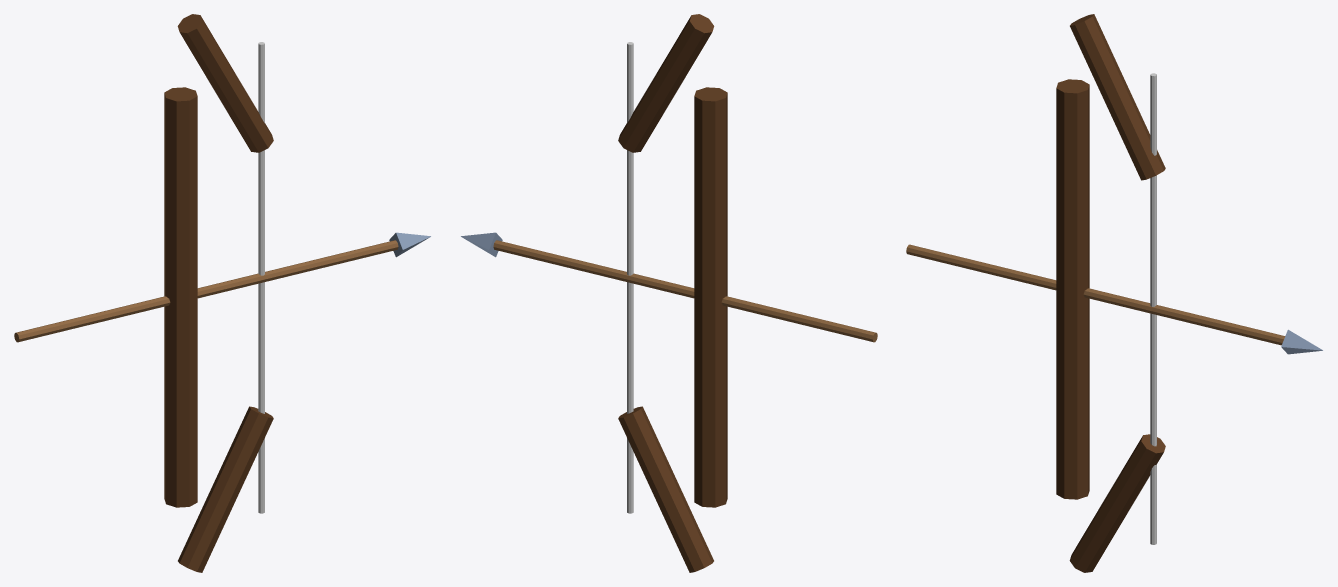
Rendered from SM_GZ_tool_bow.fbx.
The picture shows the model from 3 angles, left to right: view 1: azimuth 30°, elevation 25°; view 2: azimuth 150°, elevation 25°; view 3: azimuth 330°, elevation 25°; orthographic projection.
Visible parts, largest first — view 1: SM_GZ_tool_bow; view 2: SM_GZ_tool_bow; view 3: SM_GZ_tool_bow.
Part boxes in pixels (box(x1,y1,x2,y2)): SM_GZ_tool_bow: box(14, 14, 430, 572); SM_GZ_tool_bow: box(461, 14, 877, 572); SM_GZ_tool_bow: box(906, 14, 1322, 572).
Bounding box in the file's own units: 139 × 178 × 10.
